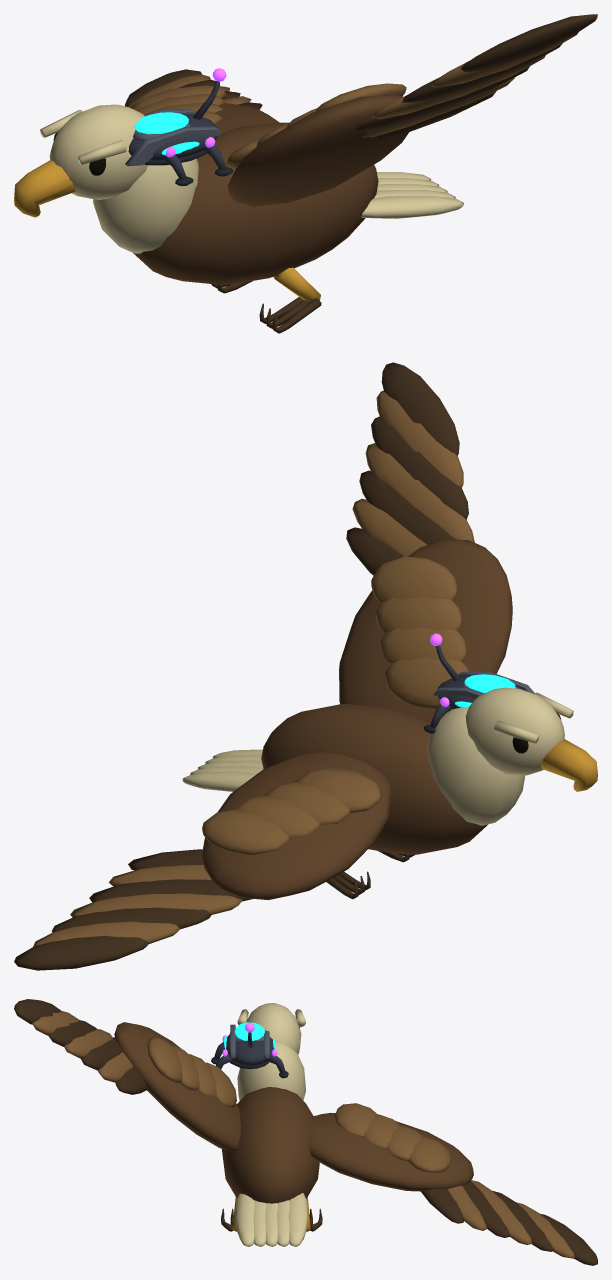
File: controlled_eagle_flight.glb
The picture shows the model from 3 angles, top to bottom: view 1: azimuth 30°, elevation 25°; view 2: azimuth 150°, elevation 25°; view 3: azimuth 270°, elevation 25°; orthographic projection. The views are drawn at different scales.
Parts seen in each view (by area): view 1: NaturalFaunaGeometry, EagleWing_-1Geometry, AlienControlDeviceGeometry, EagleWing_1Geometry; view 2: EagleWing_-1Geometry, EagleWing_1Geometry, NaturalFaunaGeometry, AlienControlDeviceGeometry; view 3: NaturalFaunaGeometry, EagleWing_1Geometry, EagleWing_-1Geometry, AlienControlDeviceGeometry.
Boxes of the visible parts, bbox=[...] form: NaturalFaunaGeometry: bbox=[14, 104, 463, 333]; EagleWing_-1Geometry: bbox=[226, 14, 597, 206]; AlienControlDeviceGeometry: bbox=[125, 68, 233, 186]; EagleWing_1Geometry: bbox=[125, 69, 279, 132]; EagleWing_-1Geometry: bbox=[339, 362, 512, 722]; EagleWing_1Geometry: bbox=[14, 752, 392, 970]; NaturalFaunaGeometry: bbox=[182, 687, 597, 899]; AlienControlDeviceGeometry: bbox=[423, 633, 534, 733]; NaturalFaunaGeometry: bbox=[221, 1003, 322, 1246]; EagleWing_1Geometry: bbox=[308, 1103, 597, 1265]; EagleWing_-1Geometry: bbox=[14, 999, 240, 1151]; AlienControlDeviceGeometry: bbox=[211, 1022, 288, 1078].
Size of the model in its own units: 2.29 by 1.94 by 3.73.
